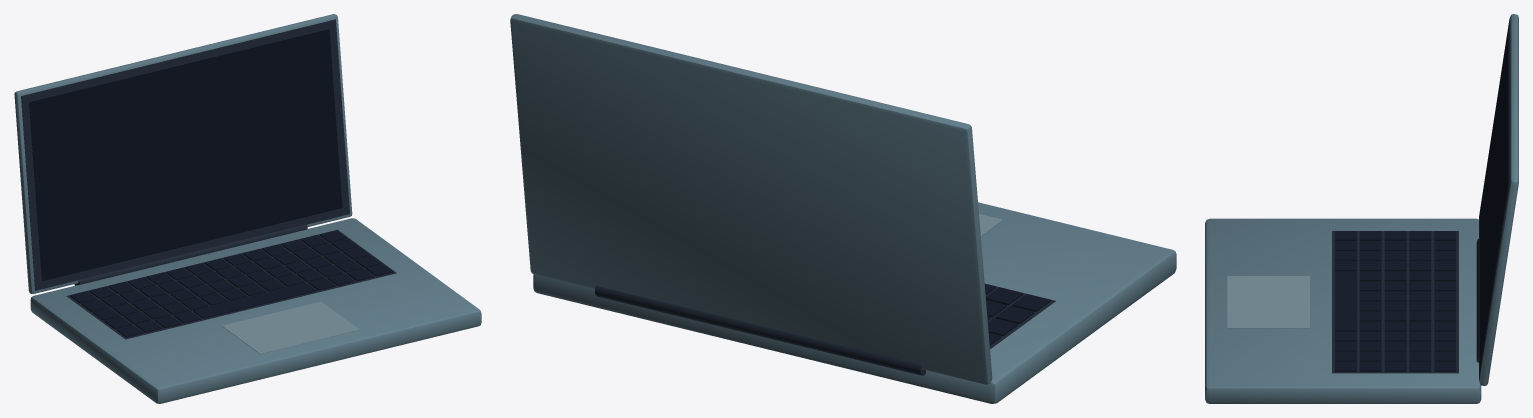
File: laptop-15.glb
3 views of the same model, side by side, from view 1: azimuth 30°, elevation 25°; view 2: azimuth 150°, elevation 25°; view 3: azimuth 270°, elevation 25° (orthographic). The views are drawn at different scales.
Parts seen in each view (by area): view 1: laptop-15; view 2: laptop-15; view 3: laptop-15.
Part boxes in pixels (box(x1,y1,x2,y2)): laptop-15: box(14, 14, 481, 403); laptop-15: box(510, 14, 1176, 403); laptop-15: box(1205, 14, 1518, 403).
Size of the model in its own units: 0.36 by 0.22 by 0.28.
